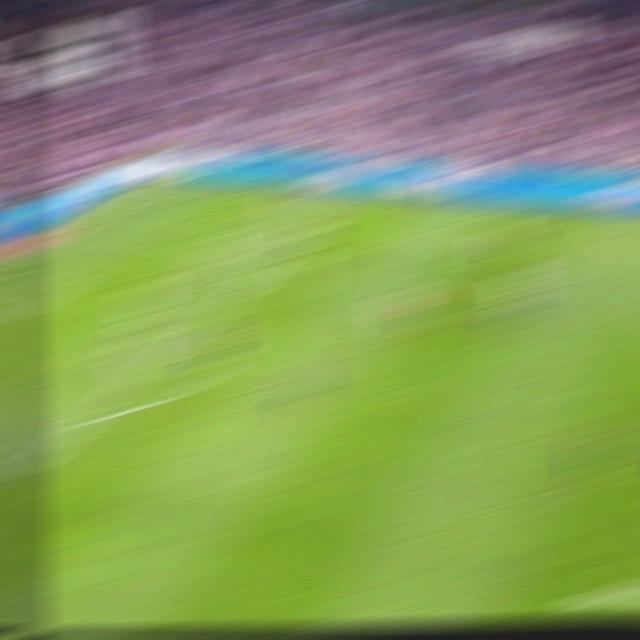bigarea_bottom_inner: (2, 469, 27, 495)
bigarea_top_inner: (270, 247, 300, 257)
bigarea_top_outter: (64, 224, 95, 232)
bottom_arc_area_intersection: (71, 409, 106, 425)
smallarea_top_inner: (46, 284, 76, 293)
top_arc_area_intersection: (194, 310, 225, 321)
